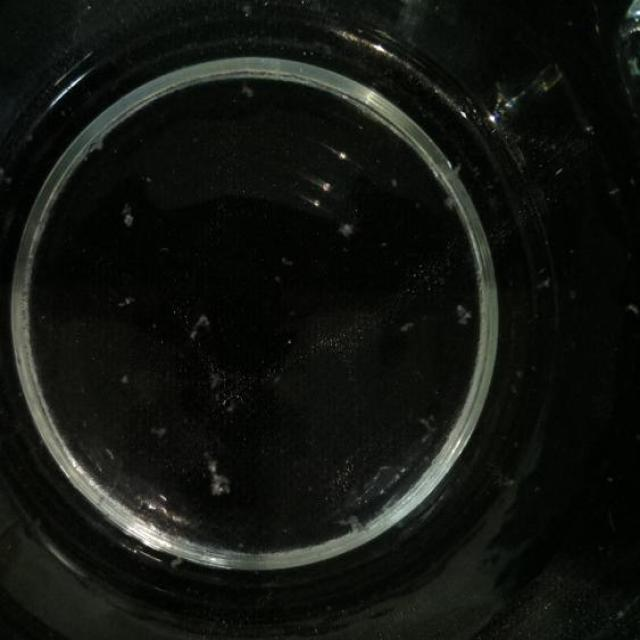fiber: (208, 453, 233, 499), (186, 309, 216, 337), (83, 130, 108, 156), (344, 510, 364, 541), (120, 203, 144, 225), (145, 423, 173, 440), (454, 303, 476, 324), (336, 219, 356, 236), (238, 86, 258, 94), (120, 372, 136, 382)
